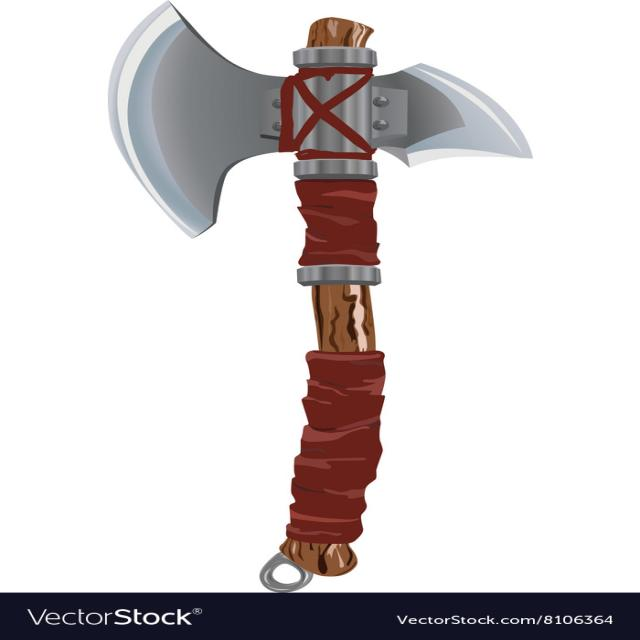Gun: (106, 0, 549, 607)
